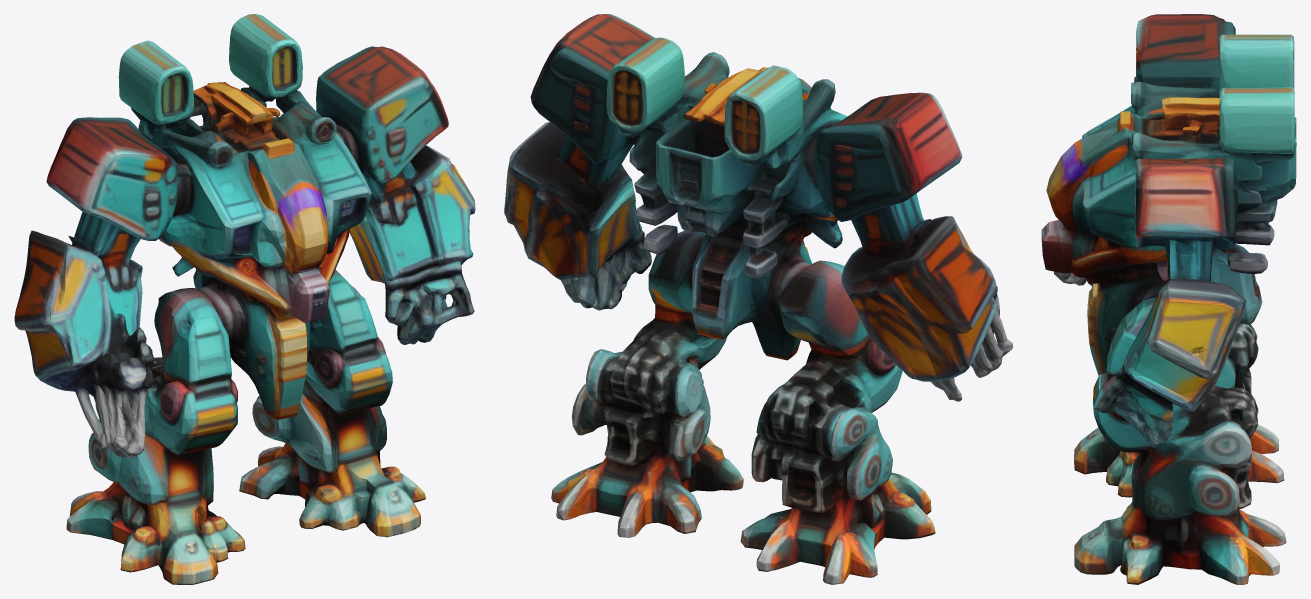
The model's file is dragon_5.glb.
3 views of the same model, side by side, from view 1: azimuth 30°, elevation 25°; view 2: azimuth 150°, elevation 25°; view 3: azimuth 270°, elevation 25° (orthographic). The views are drawn at different scales.
Parts seen in each view (by area): view 1: world; view 2: world; view 3: world.
Part boxes in pixels (<box>): world: <box>14,14,475,584</box>; world: <box>504,14,1012,584</box>; world: <box>1041,14,1296,584</box>.
Size of the model in its own units: 0.9845 by 0.9724 by 0.498.
Materials: 1 (1 with a texture image).
